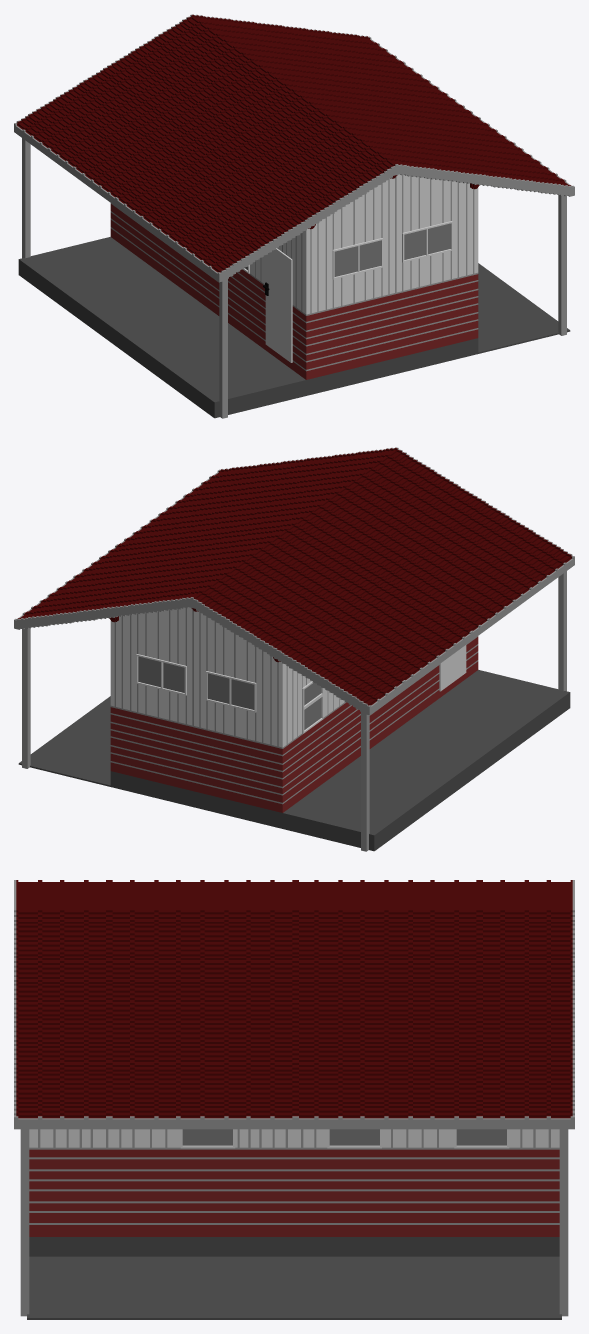
File: home6-7.obj
3 views of the same model, one above another, from view 1: azimuth 30°, elevation 25°; view 2: azimuth 150°, elevation 25°; view 3: azimuth 270°, elevation 25° (orthographic). The views are drawn at different scales.
Size of the model in its own units: 25.6 by 14.7 by 25.6.
